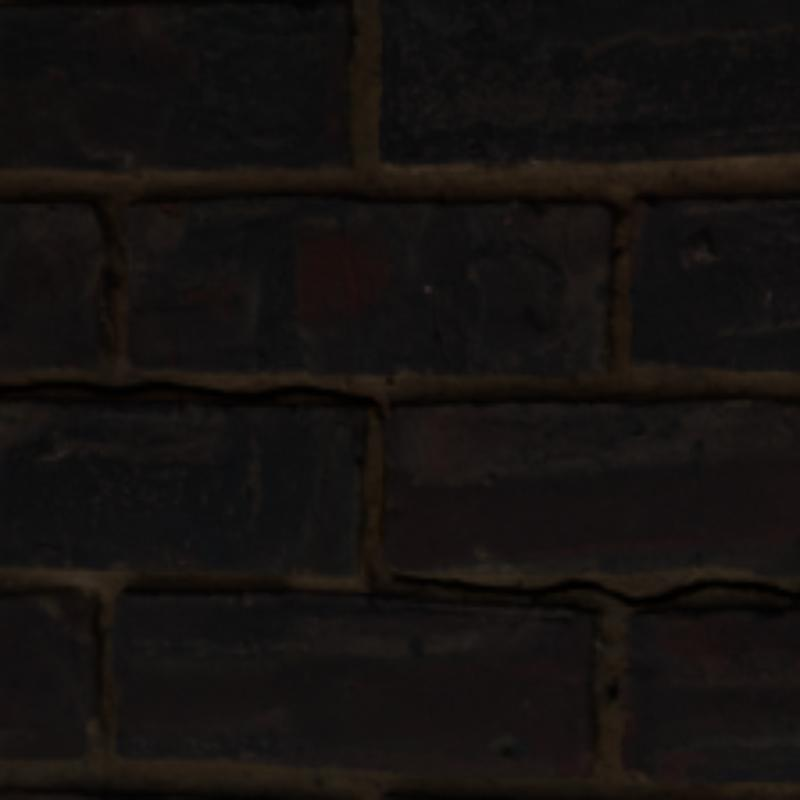pothole: (0, 382, 382, 421), (393, 575, 796, 604)
